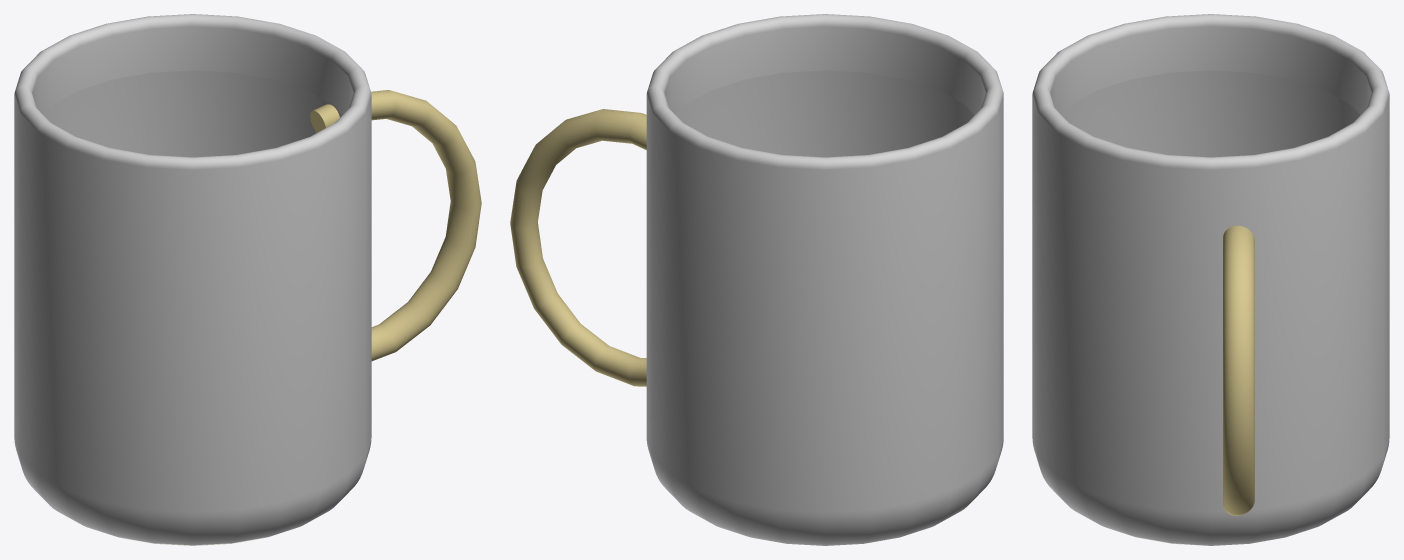
The model's file is cup.dae.
The picture shows the model from 3 angles, left to right: view 1: azimuth 30°, elevation 25°; view 2: azimuth 150°, elevation 25°; view 3: azimuth 270°, elevation 25°; orthographic projection.
Parts seen in each view (by area): view 1: SketchUp, SketchUp_003; view 2: SketchUp, SketchUp_003; view 3: SketchUp, SketchUp_003.
Boxes of the visible parts, <box> form: SketchUp: <box>14,14,371,545</box>; SketchUp_003: <box>310,90,481,361</box>; SketchUp: <box>646,14,1003,545</box>; SketchUp_003: <box>510,109,646,386</box>; SketchUp: <box>1032,14,1389,545</box>; SketchUp_003: <box>1223,225,1254,515</box>.
Bounding box in the file's own units: 0.1468 × 0.1 × 0.1225.
